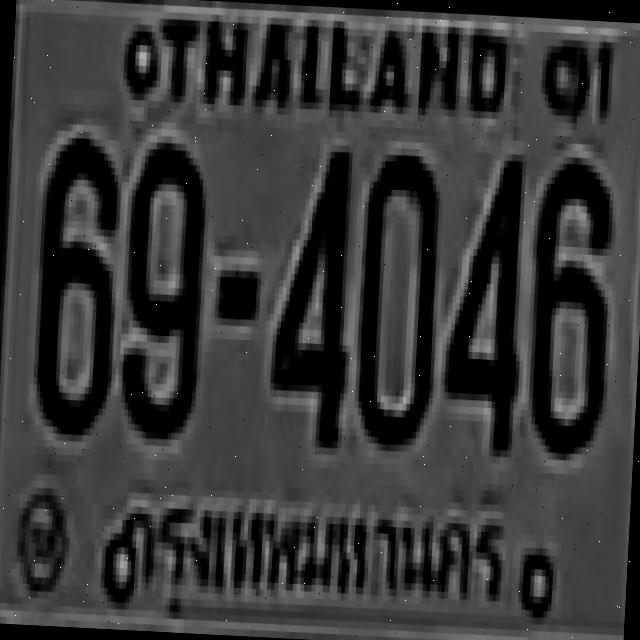0: (353, 147, 442, 446)
4: (442, 144, 528, 450), (268, 142, 354, 442)
6: (523, 152, 612, 452), (30, 130, 119, 429)
9: (116, 134, 205, 433)
Bangkok: (110, 467, 514, 628)
